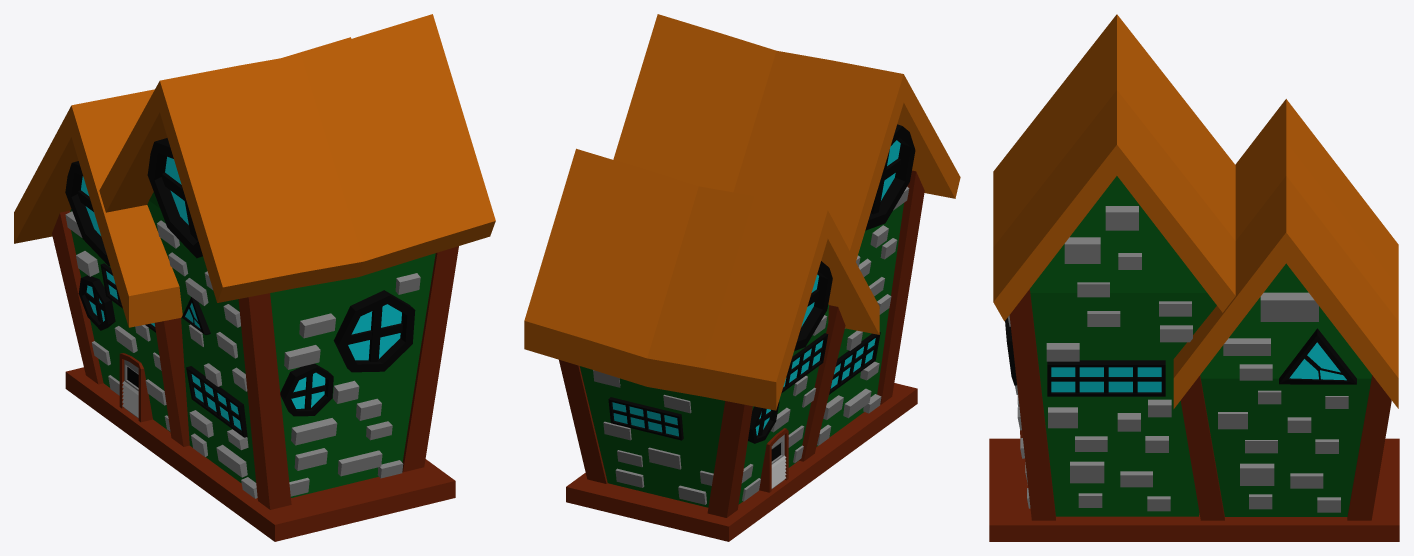
File: CasaraoVerde.fbx
3 views of the same model, side by side, from view 1: azimuth 30°, elevation 25°; view 2: azimuth 150°, elevation 25°; view 3: azimuth 270°, elevation 25° (orthographic). The views are drawn at different scales.
Parts seen in each view (by area): view 1: CasaraoVerde; view 2: CasaraoVerde; view 3: CasaraoVerde.
Part boxes in pixels (x1,y1,x2,y2): CasaraoVerde: [14, 14, 495, 541]; CasaraoVerde: [524, 14, 960, 541]; CasaraoVerde: [989, 14, 1399, 541].
Bounding box in the file's own units: 929 × 1353 × 1205.
